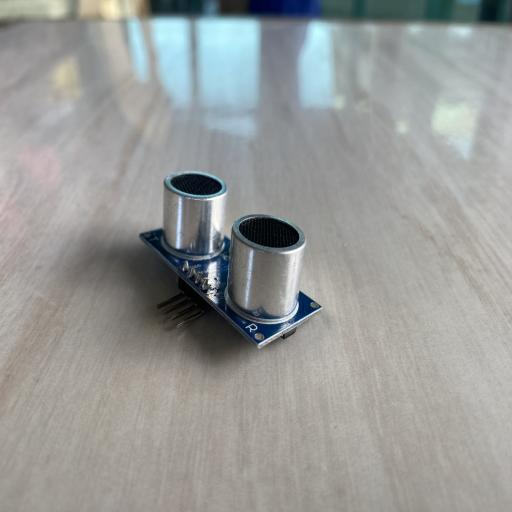Ultrasonic Sensor: (138, 170, 322, 350)
